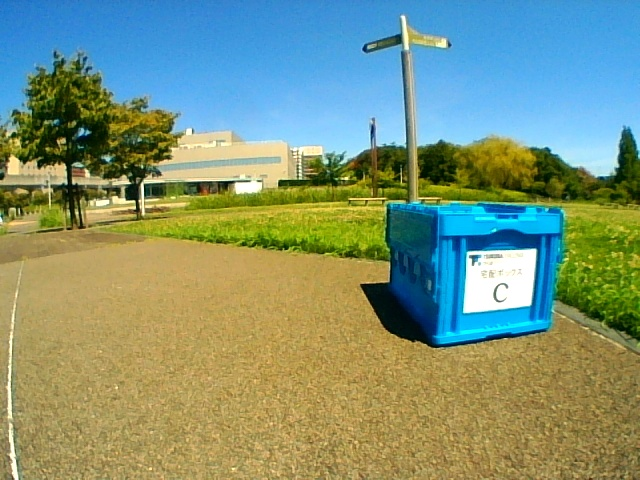blue_box: (392, 205, 551, 324)
tag_c: (470, 254, 525, 306)
